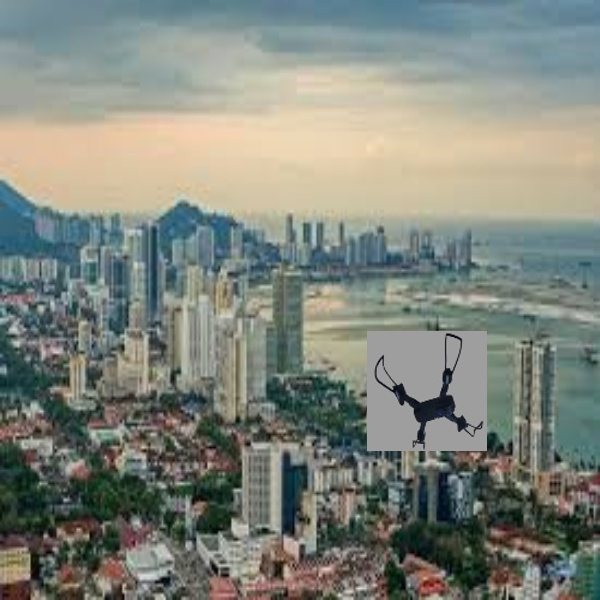drone: (373, 333, 485, 446)
